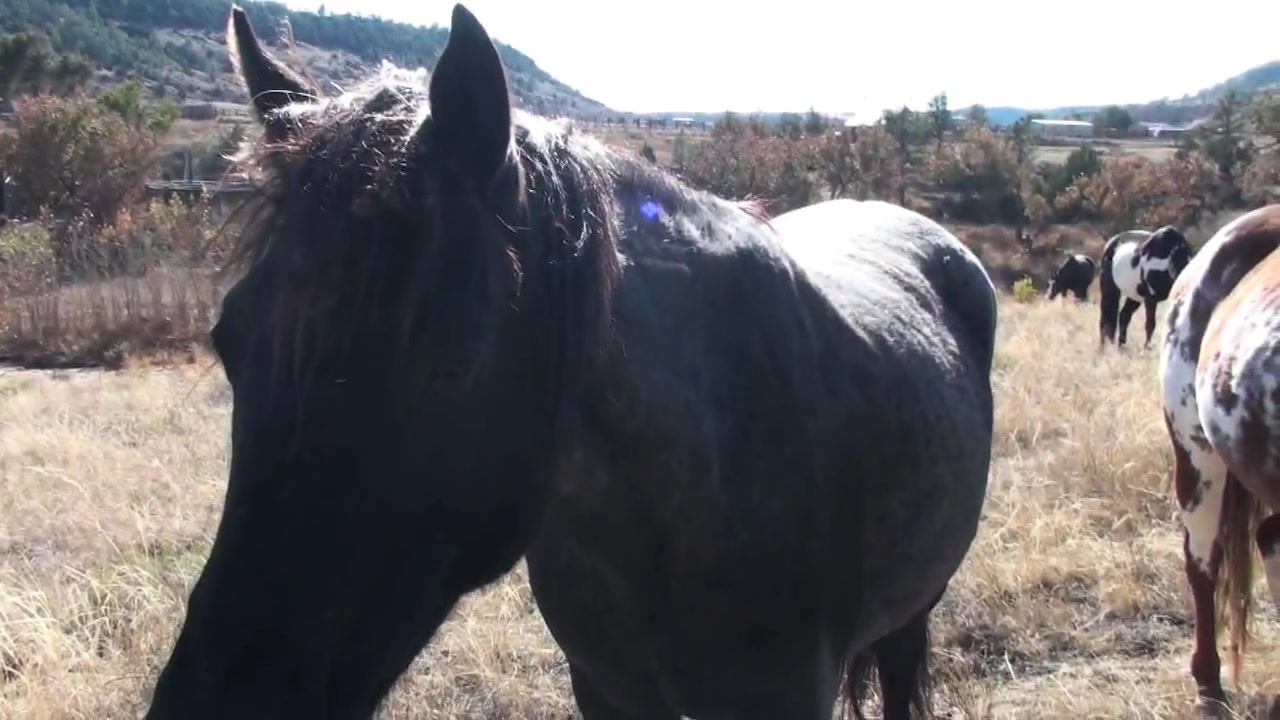horse: (134, 7, 1005, 720)
